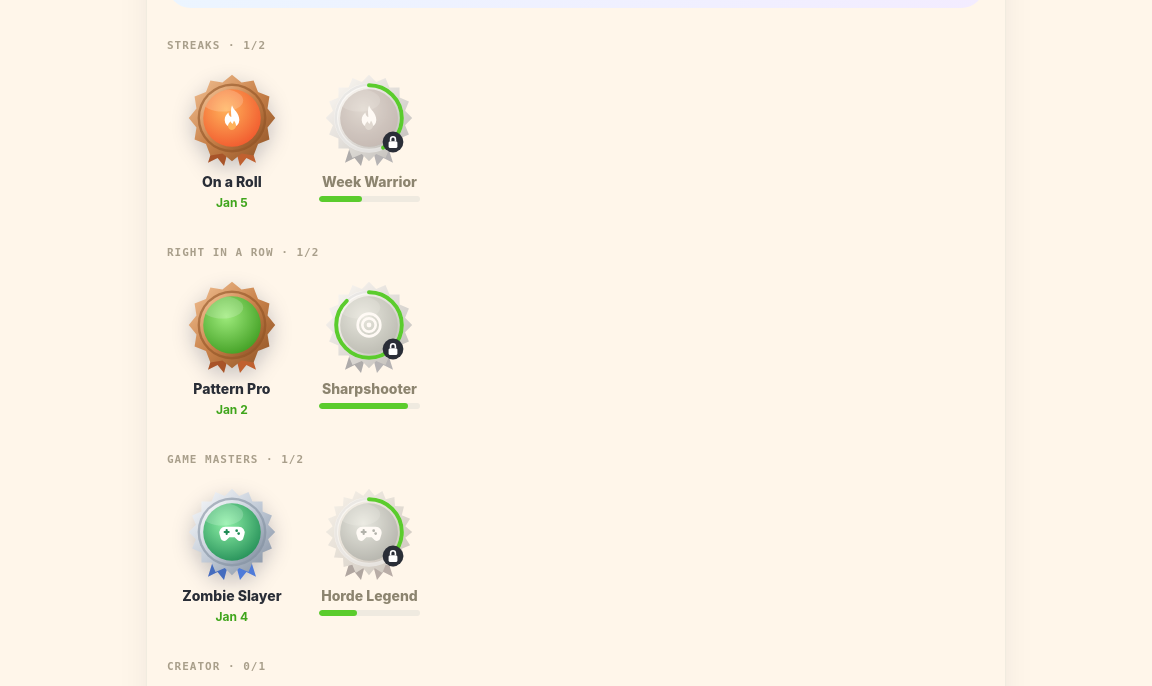
Scenario: BadgesView › opens a locked badge to say how to get it, and how close it is
(page scrolled)
Click the button with aria-label "Sharpshooter: locked, 22 of 25 right in a row": (370, 349) 305,271 -> 434,426
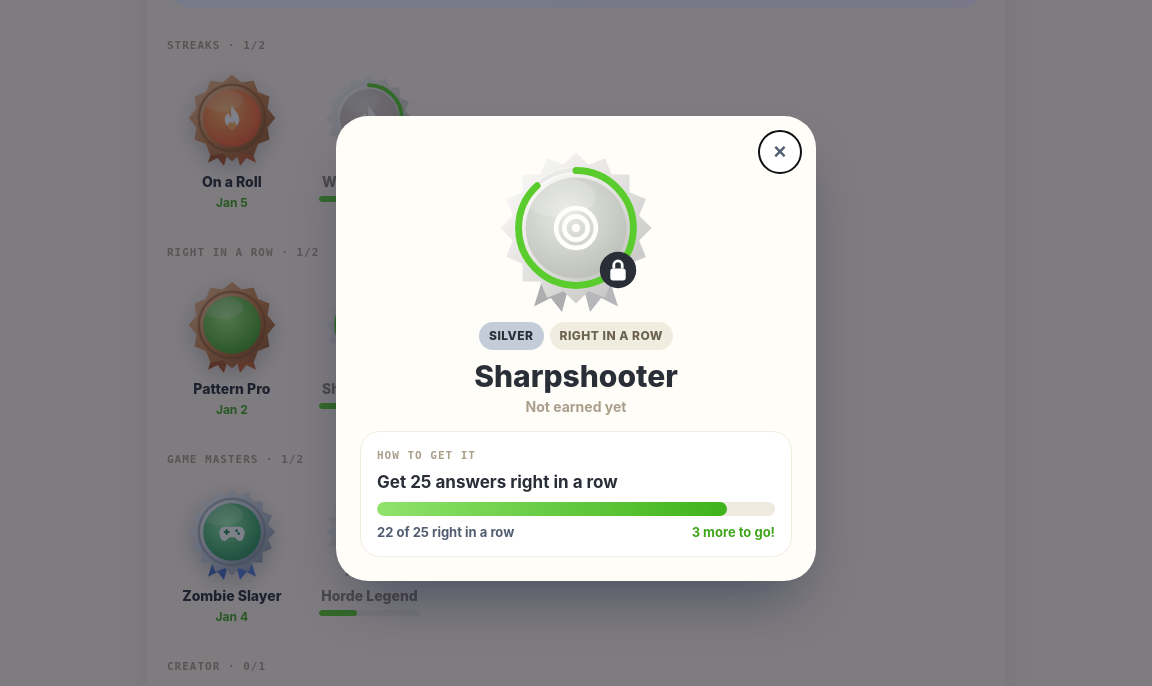
Expected: the element "How to get it" shows "Get 25 answers right in a row", 377,472 -> 618,492
Expected: the text "3 more to go!" is shown, 692,522 -> 775,542
Click the button named "Close": (780, 152) 758,130 -> 802,174
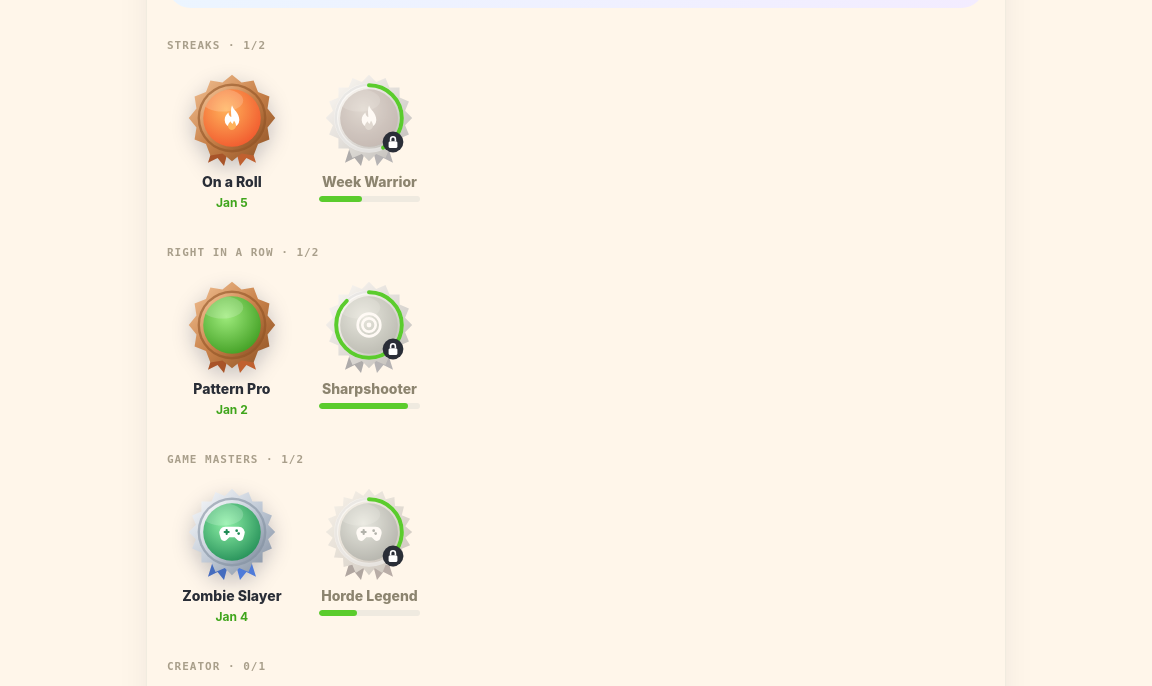
Expected: the dialog is gone
